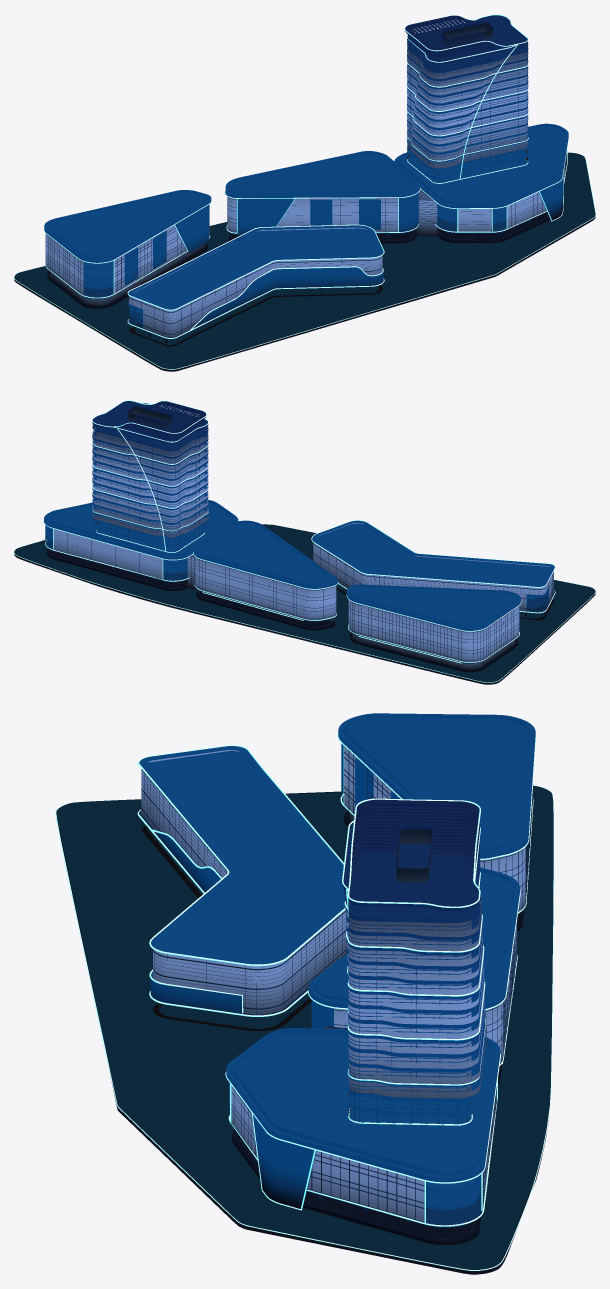
The picture shows the model from 3 angles, top to bottom: view 1: azimuth 30°, elevation 25°; view 2: azimuth 150°, elevation 25°; view 3: azimuth 270°, elevation 25°; orthographic projection. The views are drawn at different scales.
Visible parts, largest first — view 1: 科技_商圈建筑_007; view 2: 科技_商圈建筑_007; view 3: 科技_商圈建筑_007.
Boxes of the visible parts, <box> form: 科技_商圈建筑_007: <box>14,14,595,371</box>; 科技_商圈建筑_007: <box>14,400,595,684</box>; 科技_商圈建筑_007: <box>55,713,554,1274</box>.
Bounding box in the file's own units: 223 × 67.31 × 96.69.
Materials: 5 (2 with a texture image).
